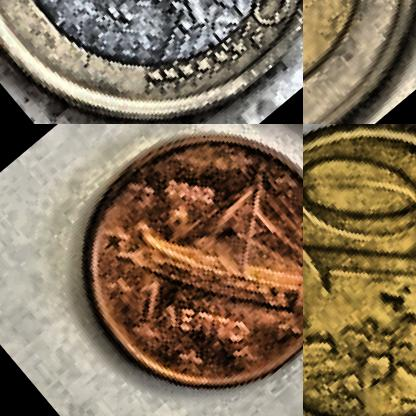coin: (29, 124, 302, 415), (0, 0, 302, 123), (303, 124, 415, 415), (303, 0, 415, 123)
